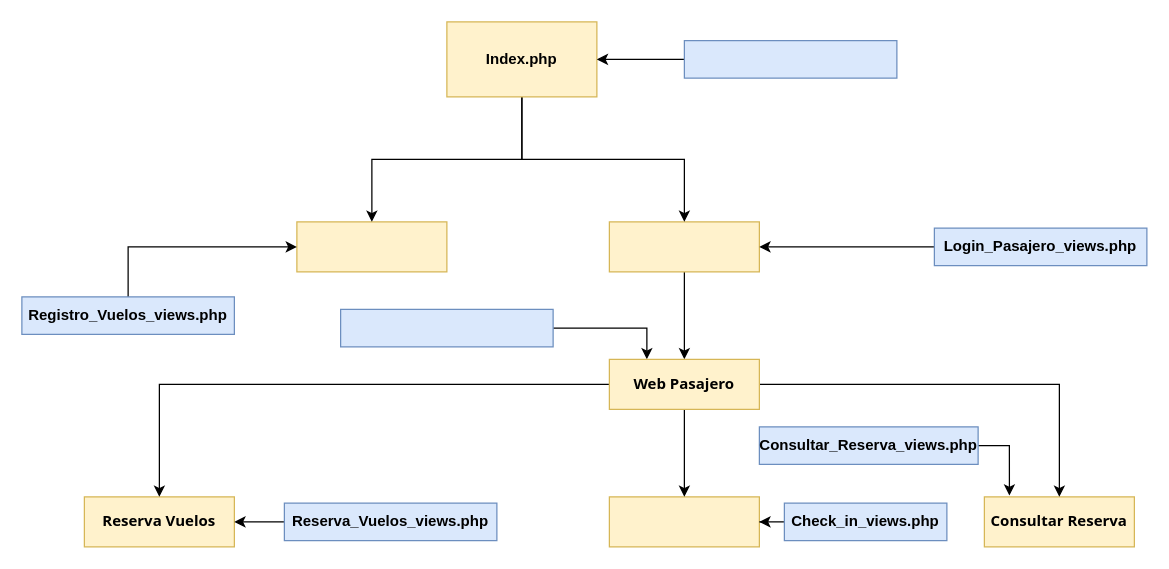
Some shapes in this 1169 by 569 pixel diagram are drawn without their labels. The shapes that lost their labels are listed below. From the top down, each one's centre as x and y in pixels, then its label:
At point (790, 58): "Web_Reservas_views.php".
At point (371, 246): "Registro Pasajero".
At point (683, 246): "Login Pasajeros".
At point (446, 327): "Web_Pasajero_views.php".
At point (683, 521): "Check-in Vuelos".
